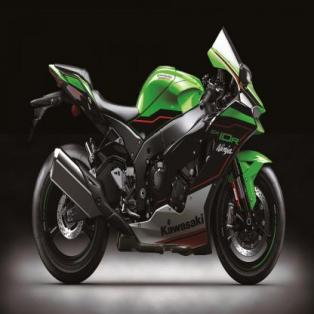Motocicleta: (30, 26, 289, 284)
